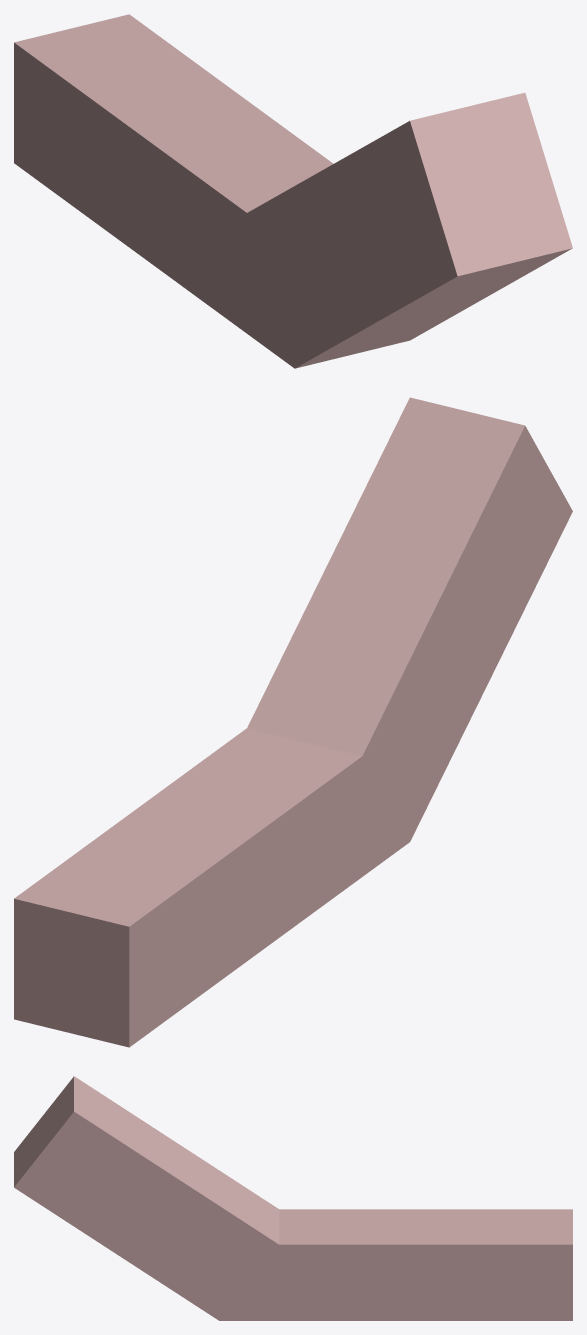
The model's file is arm.fbx.
3 renders of one model, top to bottom at view 1: azimuth 30°, elevation 25°; view 2: azimuth 150°, elevation 25°; view 3: azimuth 270°, elevation 25°, orthographic. The views are drawn at different scales.
Parts seen in each view (by area): view 1: pCube1; view 2: pCube1; view 3: pCube1.
Boxes of the visible parts, left/top/right/bottom form: pCube1: left=14, top=14, right=572, bottom=368; pCube1: left=14, top=397, right=572, bottom=1047; pCube1: left=14, top=1076, right=572, bottom=1320.
Size of the model in its own units: 1 by 2.75 by 6.66.
